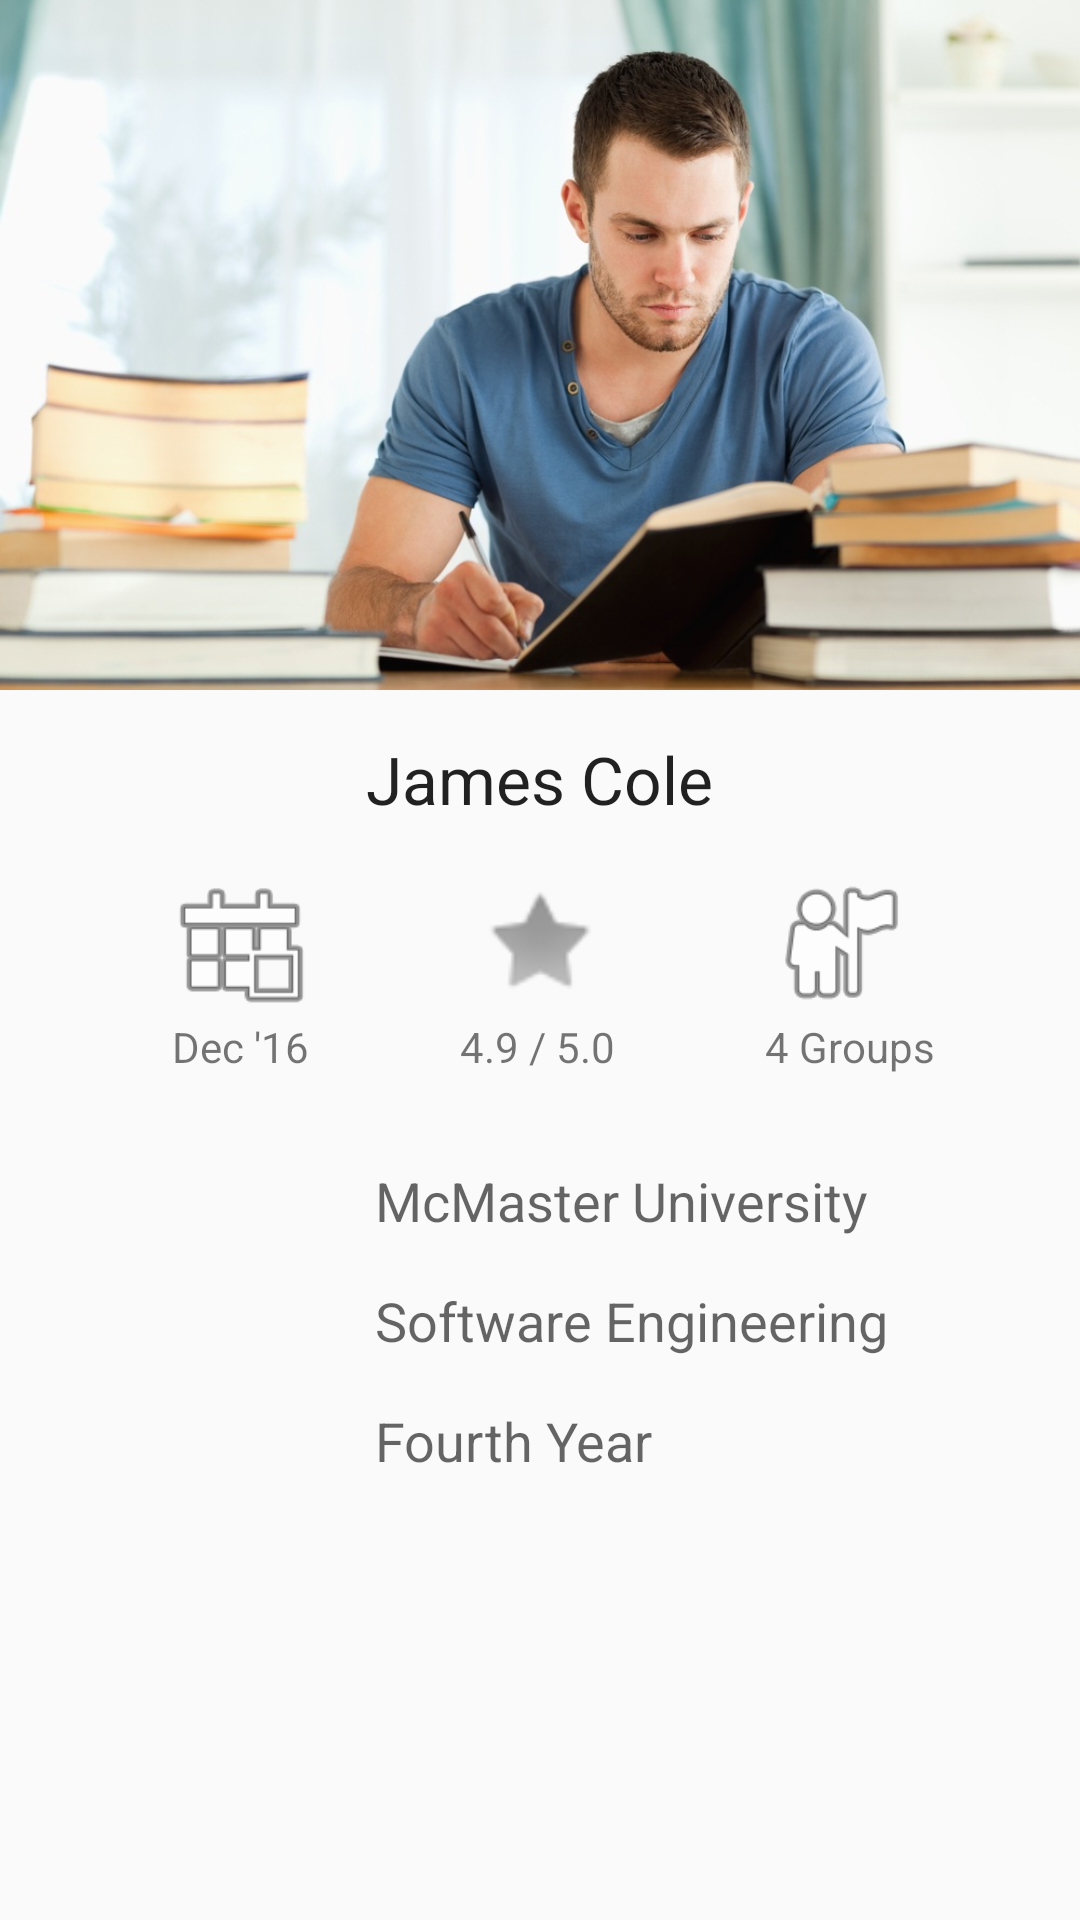

Icons on this 1080px×1920px Android screen, each with its box as (x1, y1, x2, y2):
myplaces: (785, 887, 898, 999)
today: (180, 888, 303, 1003)
